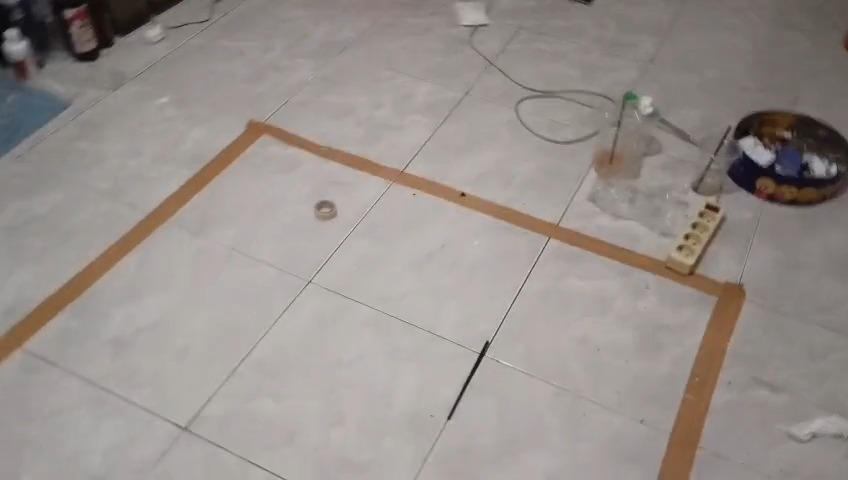floor marking: (0, 120, 745, 479)
